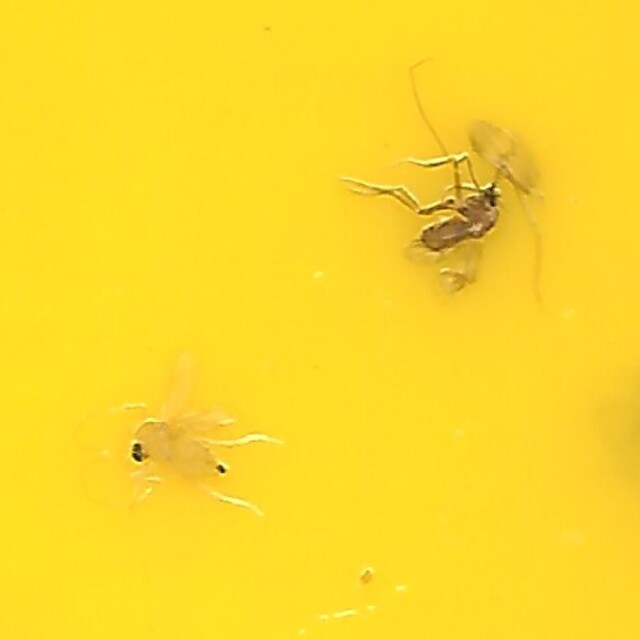Nematocera: (124, 365, 279, 497), (346, 143, 516, 255)
